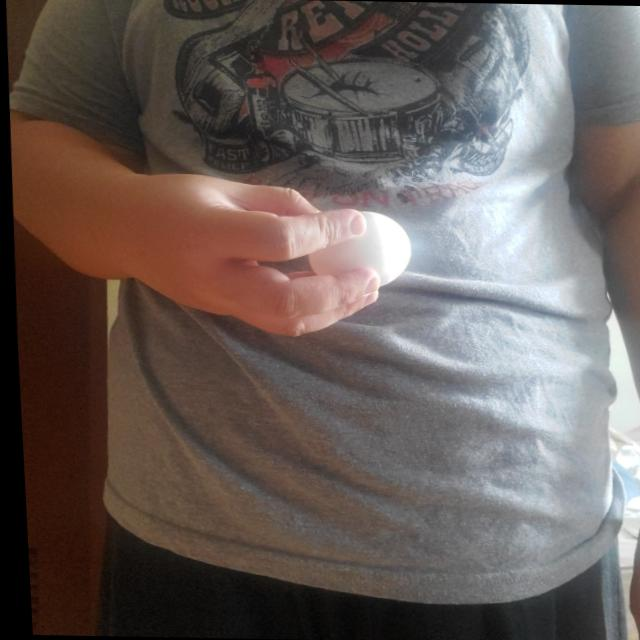egg: (300, 208, 410, 286)
